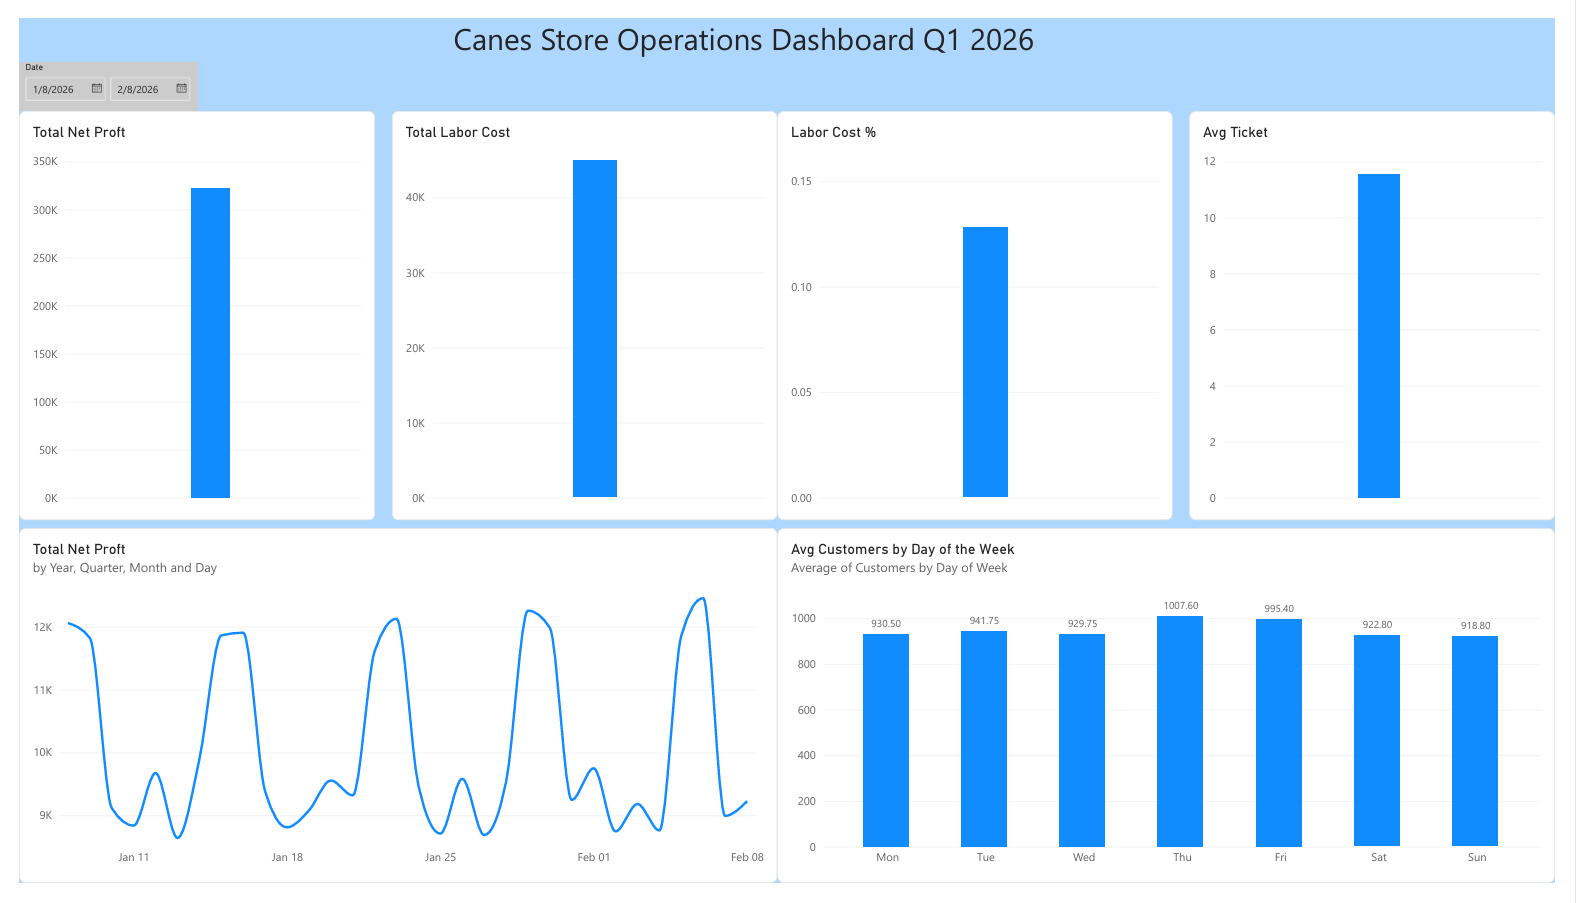

Layout of this report page (visuals, bound fields, positions):
{"tool":"powerbi","page":{"name":"Overview","canvas":[1920,1080],"ordinal":0},"visuals":[{"type":"textbox","box":[542.6,0,729.7,197.6],"z":0},{"type":"clusteredColumnChart","fields":{"Y":["canes_sales.Total Net Proft"]},"box":[0,115.9,445.2,511],"z":1000},{"type":"clusteredColumnChart","fields":{"Y":["canes_sales.Total Labor Cost"]},"box":[466.2,115.9,482,511],"z":2000},{"type":"clusteredColumnChart","fields":{"Y":["canes_sales.Labor Cost %"]},"box":[948.3,115.9,493.9,511],"z":3000},{"type":"clusteredColumnChart","fields":{"Y":["canes_sales.Avg Ticket"]},"box":[1463.3,115.9,457,511],"z":4000},{"type":"lineChart","fields":{"Category":["Date.Date.Variation.Date Hierarchy.Year","Date.Date.Variation.Date Hierarchy.Quarter","Date.Date.Variation.Date Hierarchy.Month","Date.Date.Variation.Date Hierarchy.Day"],"Y":["canes_sales.Total Net Proft"]},"box":[0,637.5,948.3,442.5],"z":5000},{"type":"clusteredColumnChart","title":"Avg Customers by Day of the Week","fields":{"Category":["Date.Day of Week"],"Y":["Avg(canes_sales.Customers)"]},"box":[948.3,637.5,972,442.5],"z":6000},{"type":"slicer","fields":{"Values":["Date.Date"]},"box":[0,55.3,222.6,60.6],"z":7000}]}

Visuals, with their boxes in screenshot pixels (x1, y1, x2, y2), scaled from the page's 1920x1080 canvas onto the 1576x903 screenshot:
textbox: left=445, top=0, right=1044, bottom=165
clusteredColumnChart - canes_sales.Total Net Proft: left=0, top=97, right=365, bottom=524
clusteredColumnChart - canes_sales.Total Labor Cost: left=383, top=97, right=778, bottom=524
clusteredColumnChart - canes_sales.Labor Cost %: left=778, top=97, right=1184, bottom=524
clusteredColumnChart - canes_sales.Avg Ticket: left=1201, top=97, right=1575, bottom=524
lineChart - Date.Date.Variation.Date Hierarchy.Year x Date.Date.Variation.Date Hierarchy.Quarter: left=0, top=533, right=778, bottom=902
"Avg Customers by Day of the Week" clusteredColumnChart: left=778, top=533, right=1575, bottom=902
slicer - Date.Date: left=0, top=46, right=183, bottom=97
